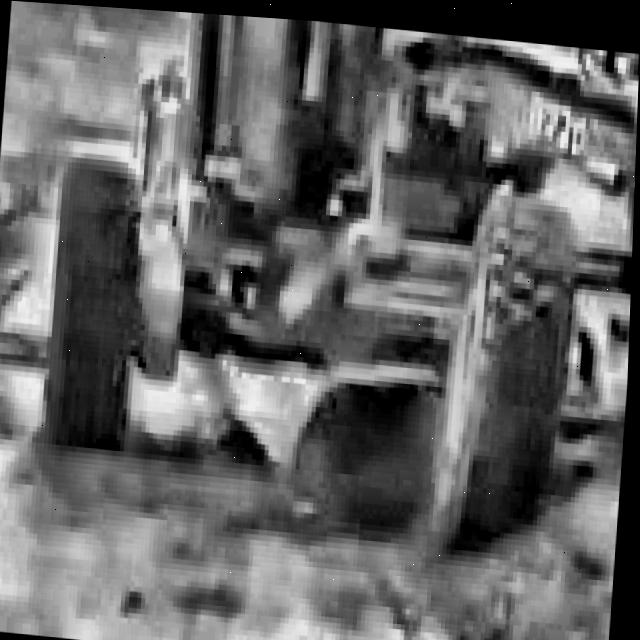buldozerpayloadergrader: (32, 3, 640, 594)
